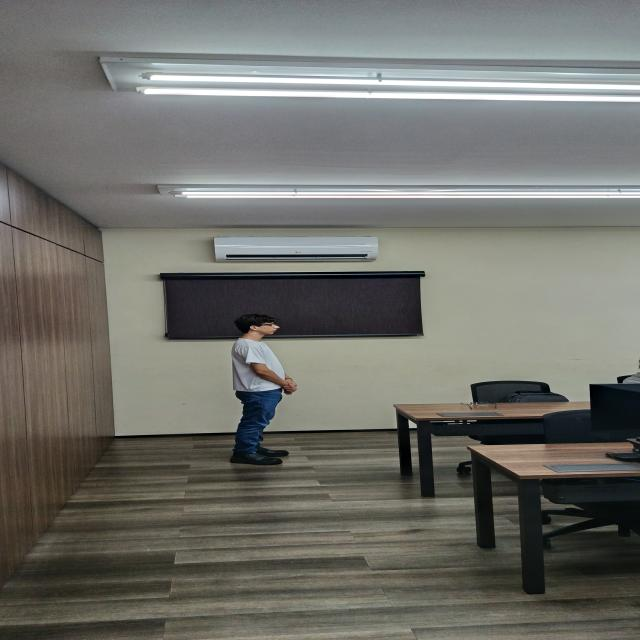oculos-epi: (260, 324, 275, 327)
